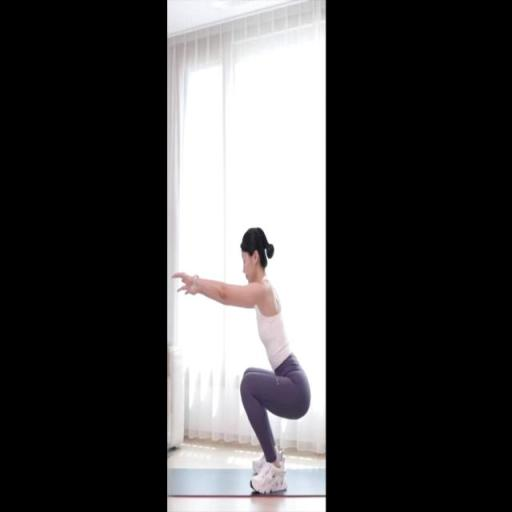Normal_BrenchPress: (171, 226, 312, 496)
